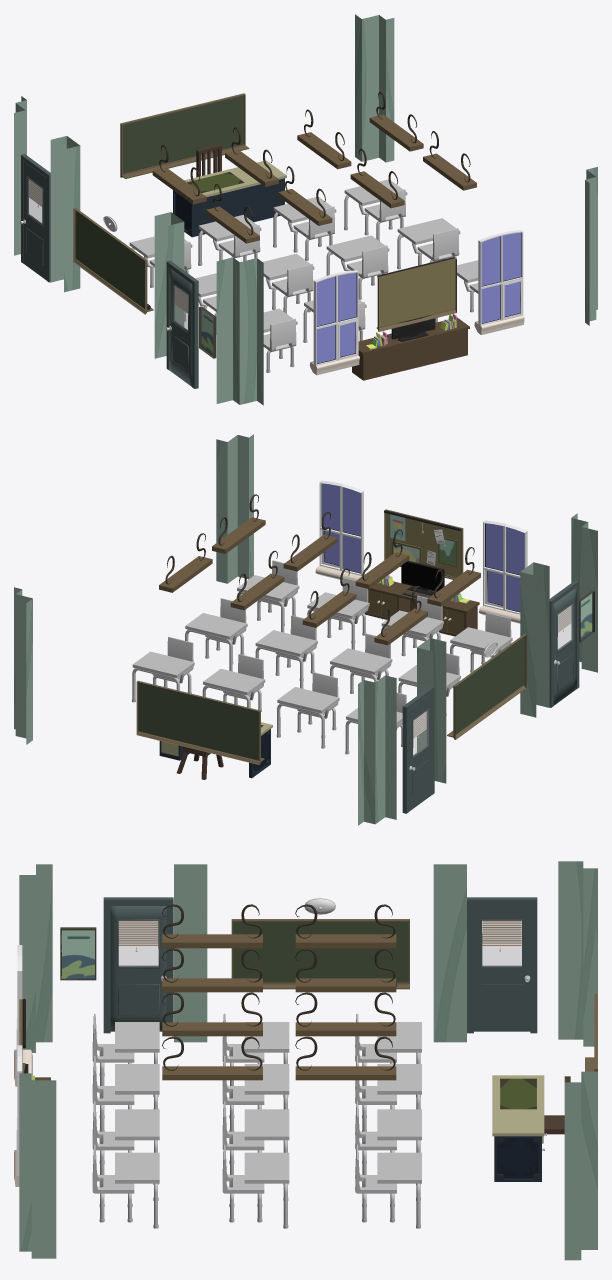
File: class test.fbx
3 renders of one model, top to bottom at view 1: azimuth 30°, elevation 25°; view 2: azimuth 150°, elevation 25°; view 3: azimuth 270°, elevation 25°, orthographic. The views are drawn at different scales.
Visible parts, largest first — view 1: Columns, Board.001, Board.002, Window.020, Window.001, Desk, Board, Storage unit, Door.001, Door, Student_Chair.004, Student_Chair.005 (+21 smaller); view 2: Columns, Board.001, Board, Window.020, Window.001, Board.002, Door, Door.001, Student_Chair.010, Student_Chair.008, Student_Chair.005, Student_Chair.004 (+22 smaller); view 3: Columns, Board, Door, Door.001, Desk, Student_Chair.004, Student_Chair.008, Student_Chair, DoorFrame, Student_Chair.005, Student_Chair.001, Student_Chair.009 (+18 smaller).
Boxes of the visible parts, x1,y1,x2,y2 form: Columns: (14,14,597,405); Board.001: (120,93,249,178); Board.002: (376,257,456,331); Window.020: (474,230,524,334); Window.001: (309,270,359,375); Desk: (173,160,286,237); Board: (73,208,153,314); Storage unit: (352,317,469,380); Door.001: (169,267,192,386); Door: (23,161,46,280); Student_Chair.004: (397,218,460,269); Student_Chair.005: (326,235,389,299); Columns: (14,434,597,825); Board.001: (136,680,264,764); Board: (447,634,526,739); Window.020: (315,480,364,580); Window.001: (479,520,527,623); Board.002: (384,509,463,579); Door: (409,693,432,811); Door.001: (553,587,576,705); Student_Chair.010: (276,672,339,748); Student_Chair.008: (132,636,194,702); Student_Chair.005: (255,615,317,688); Student_Chair.004: (185,598,247,671); Columns: (19,861,597,1260); Board: (231,919,409,989); Door: (474,906,530,1031); Door.001: (110,906,166,1031); Desk: (492,1075,544,1181); Student_Chair.004: (222,1144,289,1228); Student_Chair.008: (355,1144,421,1228); Student_Chair: (92,1144,159,1228); DoorFrame: (467,897,537,1033); Student_Chair.005: (222,1101,289,1184); Student_Chair.001: (92,1101,159,1184); Student_Chair.009: (355,1101,421,1184).
Size of the model in its own units: 797 by 280 by 832.
